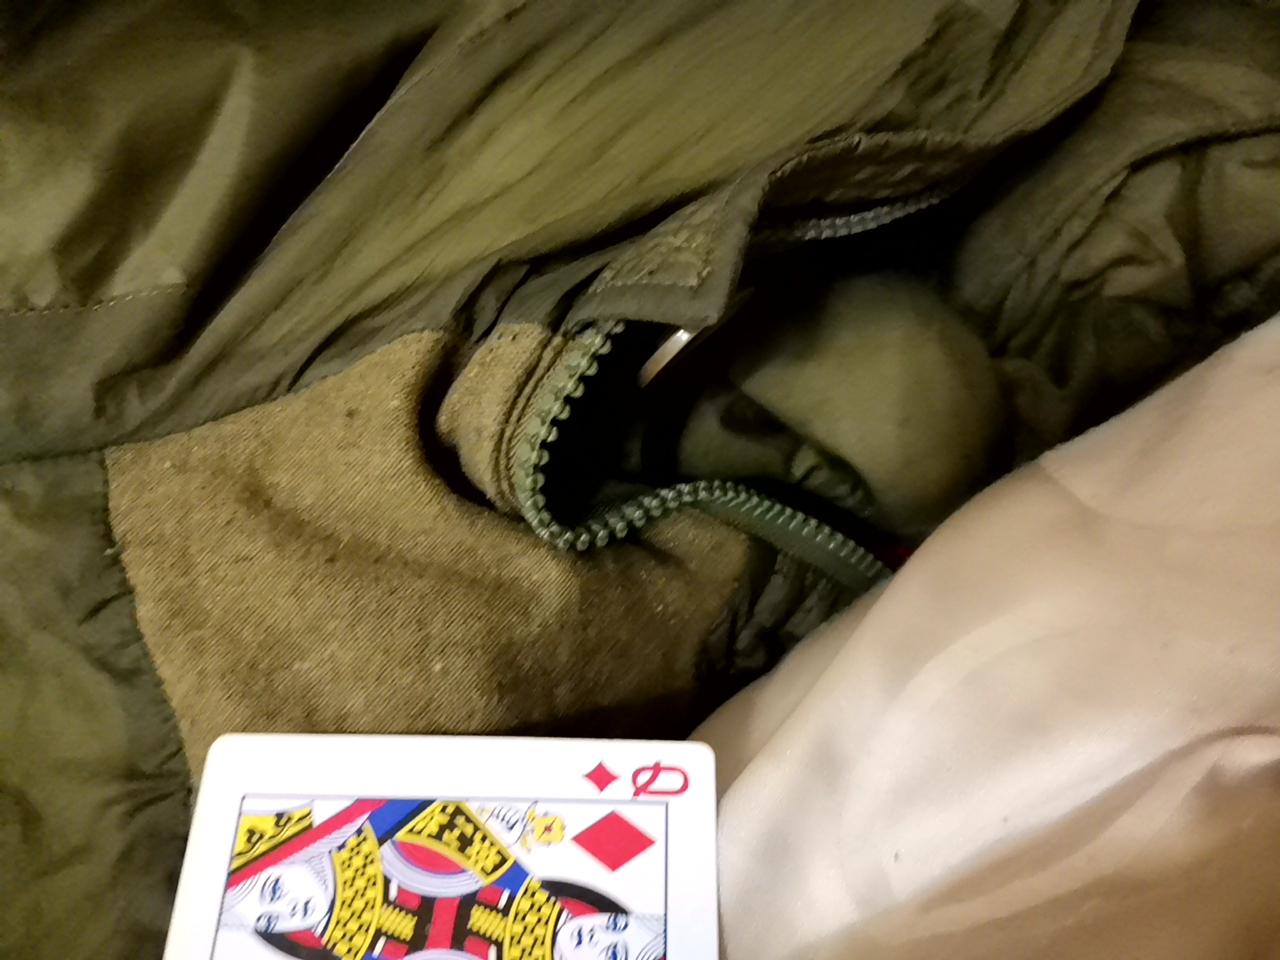fk q: (153, 718, 742, 956)
